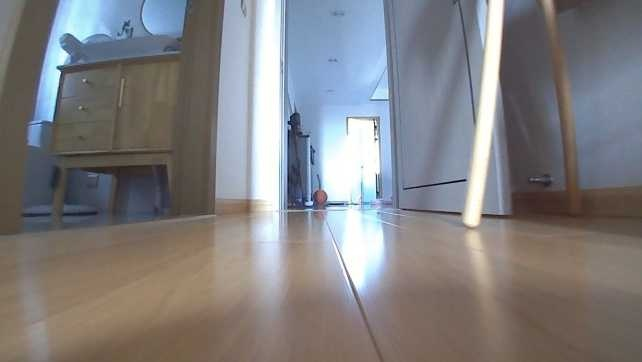door_anno: (380, 0, 513, 217)
toilet: (17, 116, 57, 209)
washstand: (48, 50, 180, 222)
